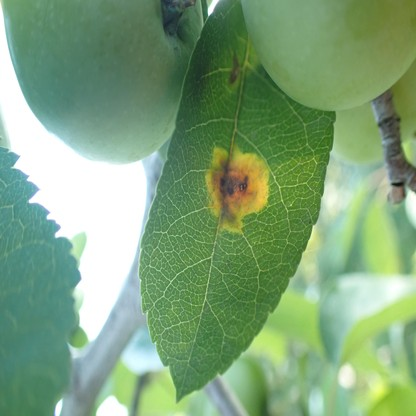rust: (206, 146, 269, 231)
